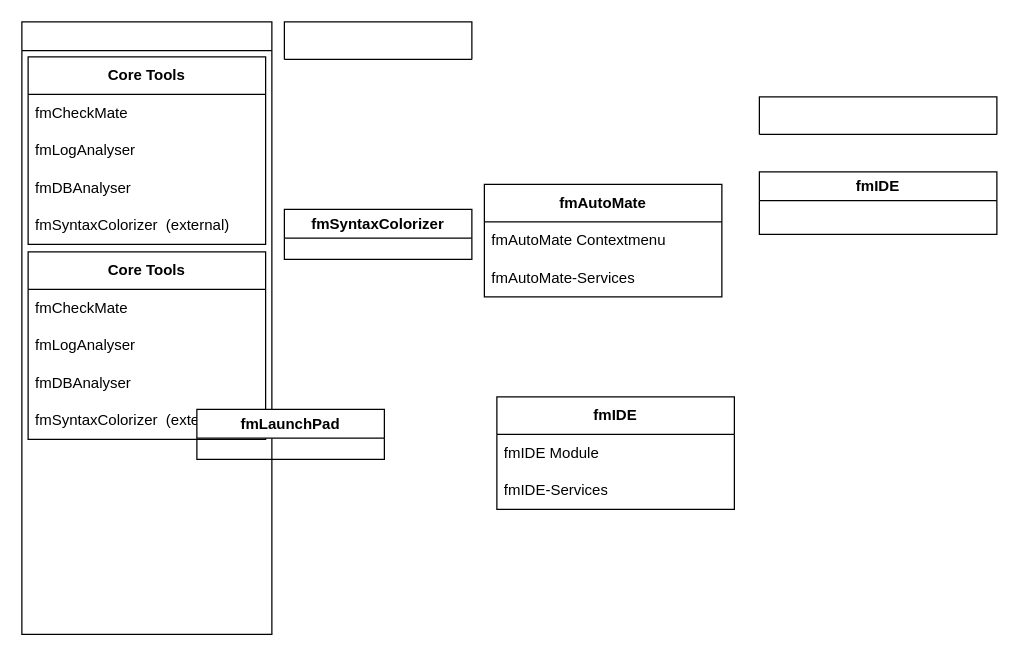
This 1019x656 diagram has some shape labels left out. The shapes that lost their labels are listed below. From the top down, each one's box as (x1, y1, x2, y2) in pixels, then its label:
(283, 21, 472, 59): fmCheckMate-XSLT
(758, 96, 997, 134): fmScriptWorkspace
(21, 21, 272, 634): fmWorkMate
